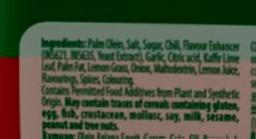ingredients: (21, 25, 251, 139)
